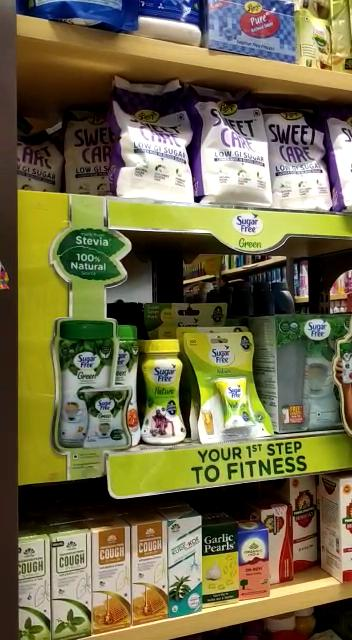SUGAR FREE NATURA 500 PELLET: (185, 327, 276, 448)
SUGAR FREE NATURA_ POWDER_CONC_100G: (140, 334, 185, 442)
